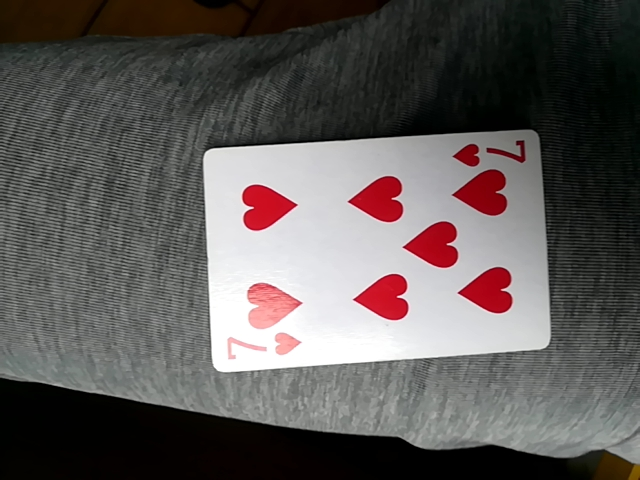hx 7: (205, 131, 553, 372)
